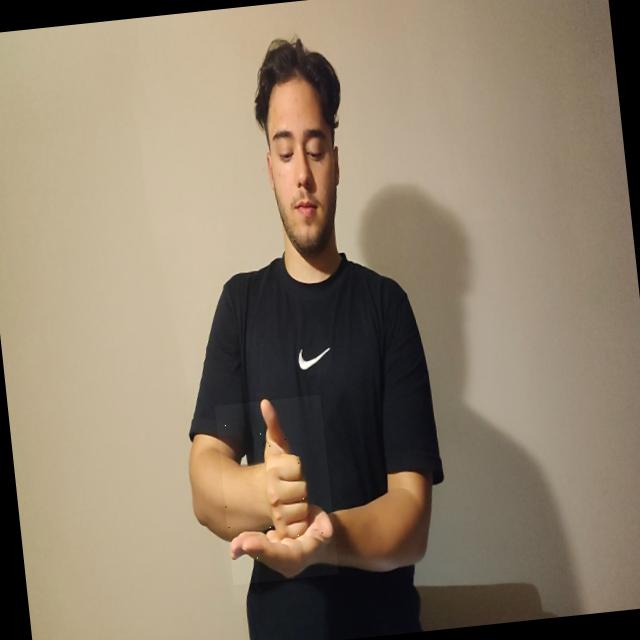help: (214, 394, 338, 584)
